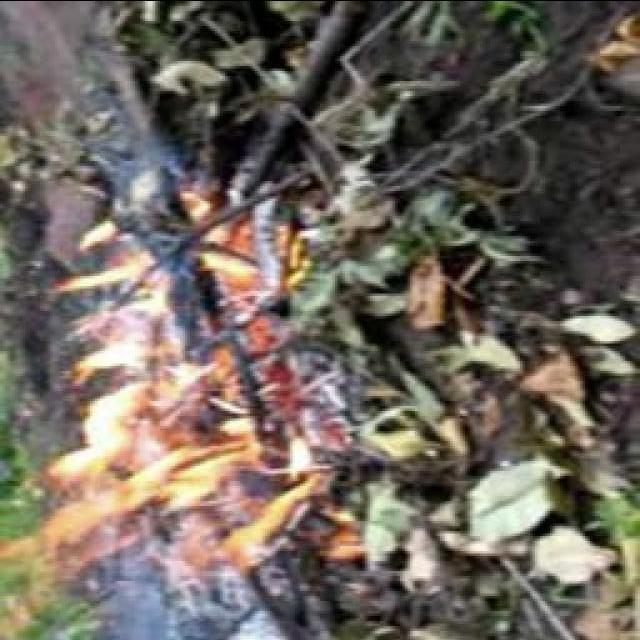Fire: (29, 172, 331, 590)
